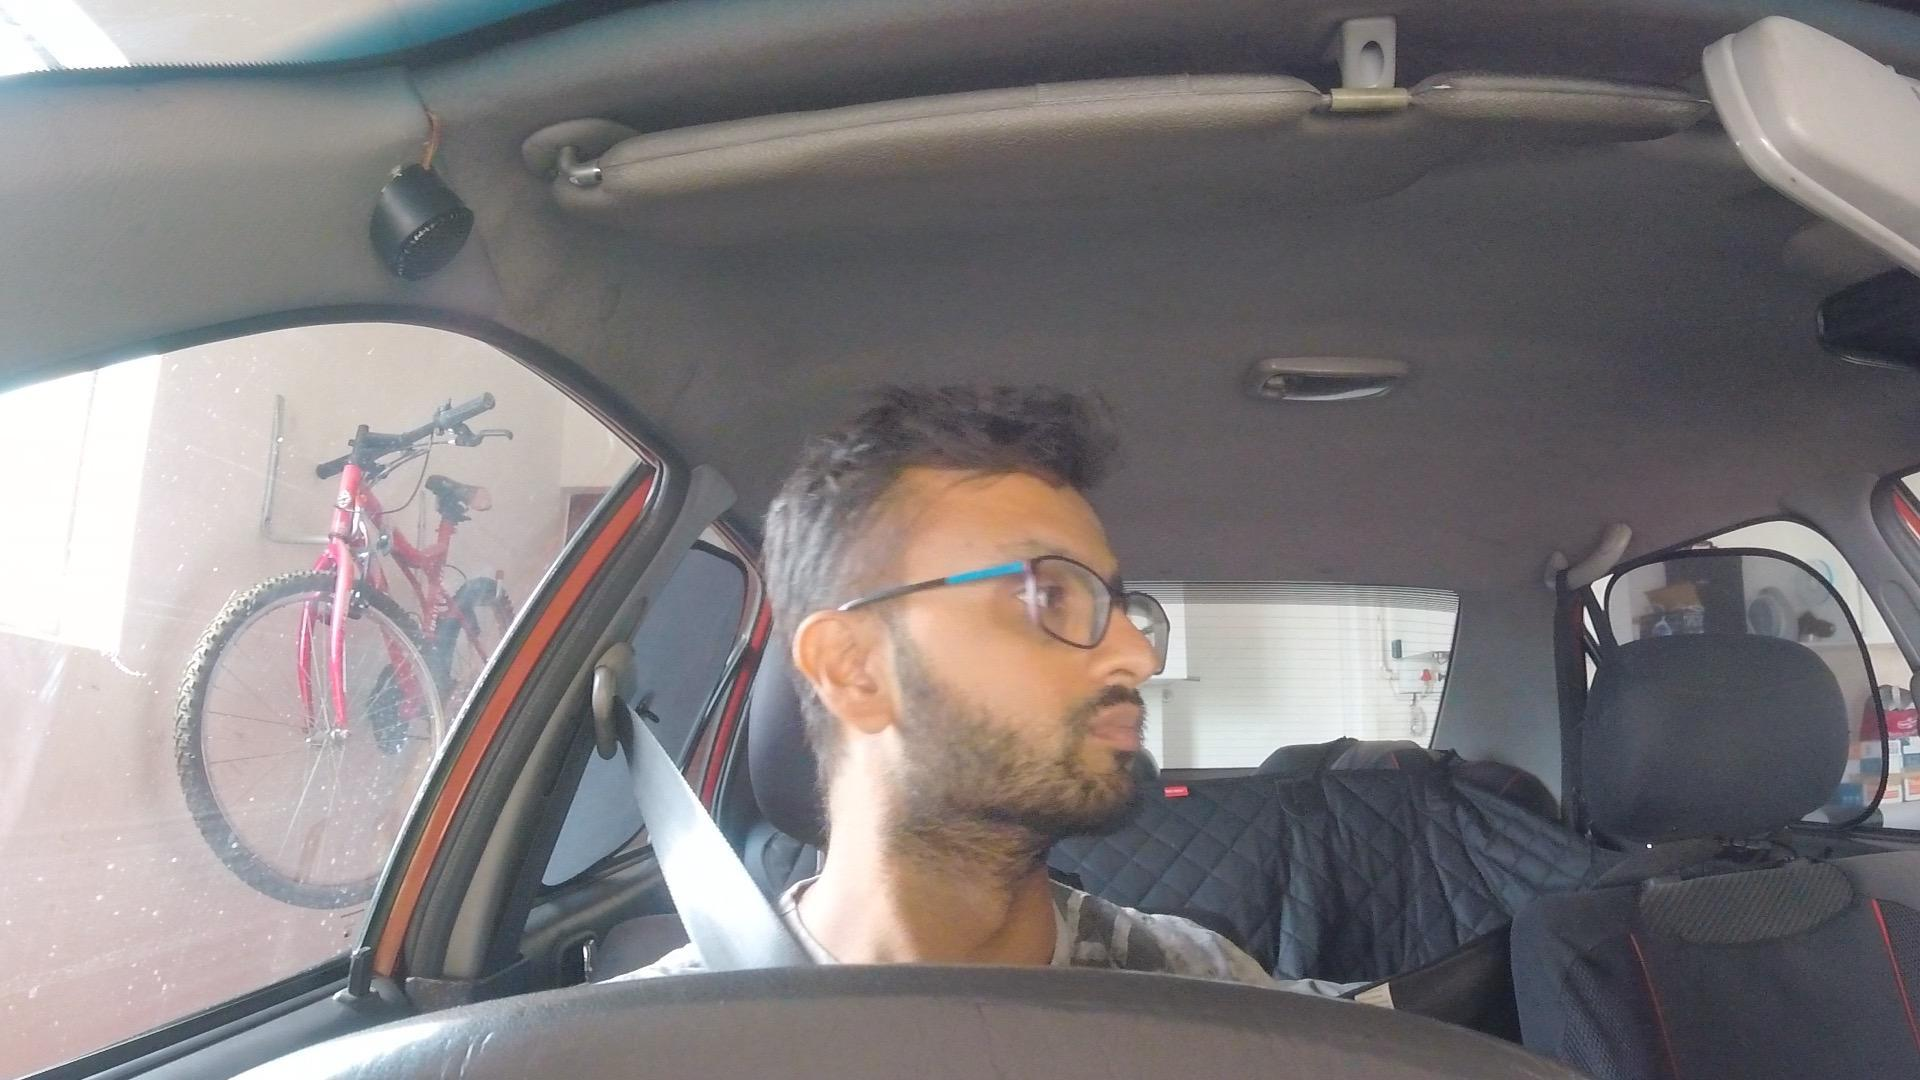SafeDriving: (758, 380, 1175, 858)
